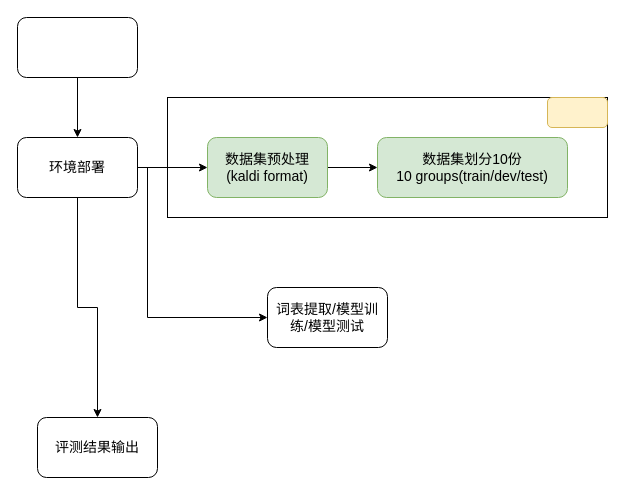
Some shapes in this 625 by 495 pixel diagram are drawn without their labels. The box of each missing label's shape, as (x1, y1, x2, y2) in pixels:
caict数据间接评估: (16, 16, 138, 78)
预处理: (546, 96, 608, 128)
